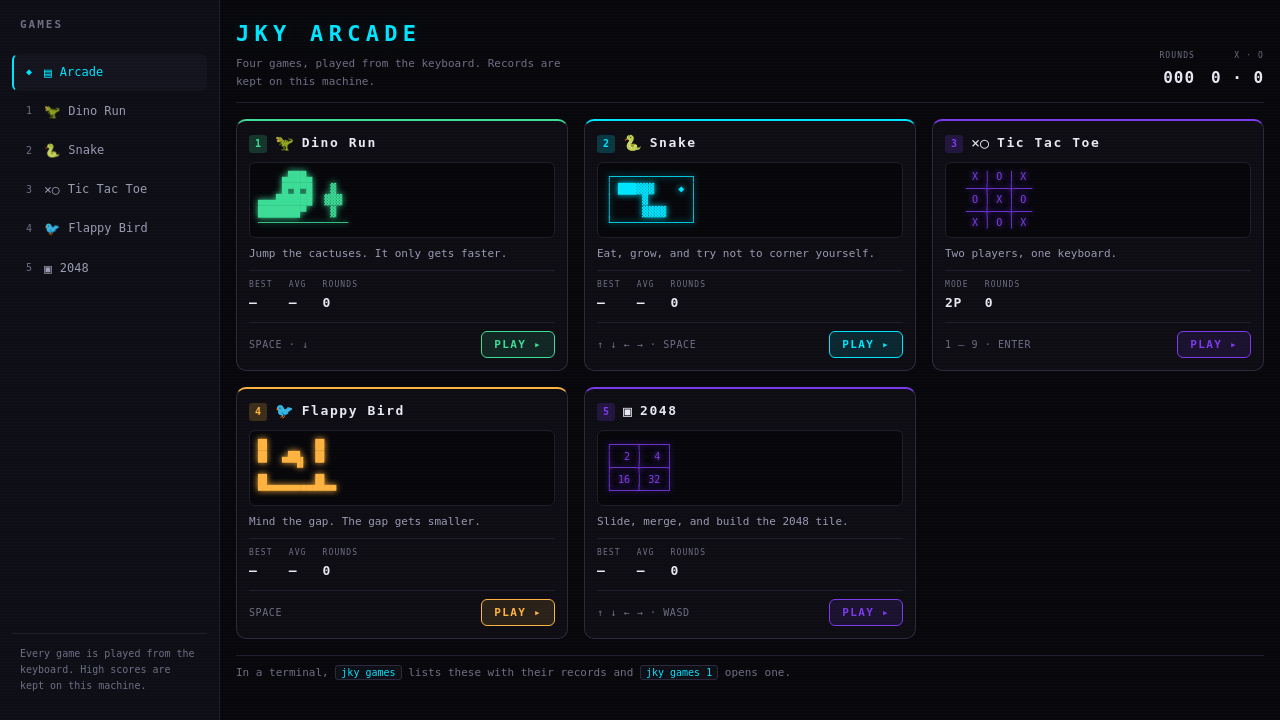
Scenario: the games section › switches to another game when its name is clicked
This screenshot has width=1280, height=720.
Step 1. Click the button "2 🐍 Snake" → x=110, y=151, box [12,132,207,169]
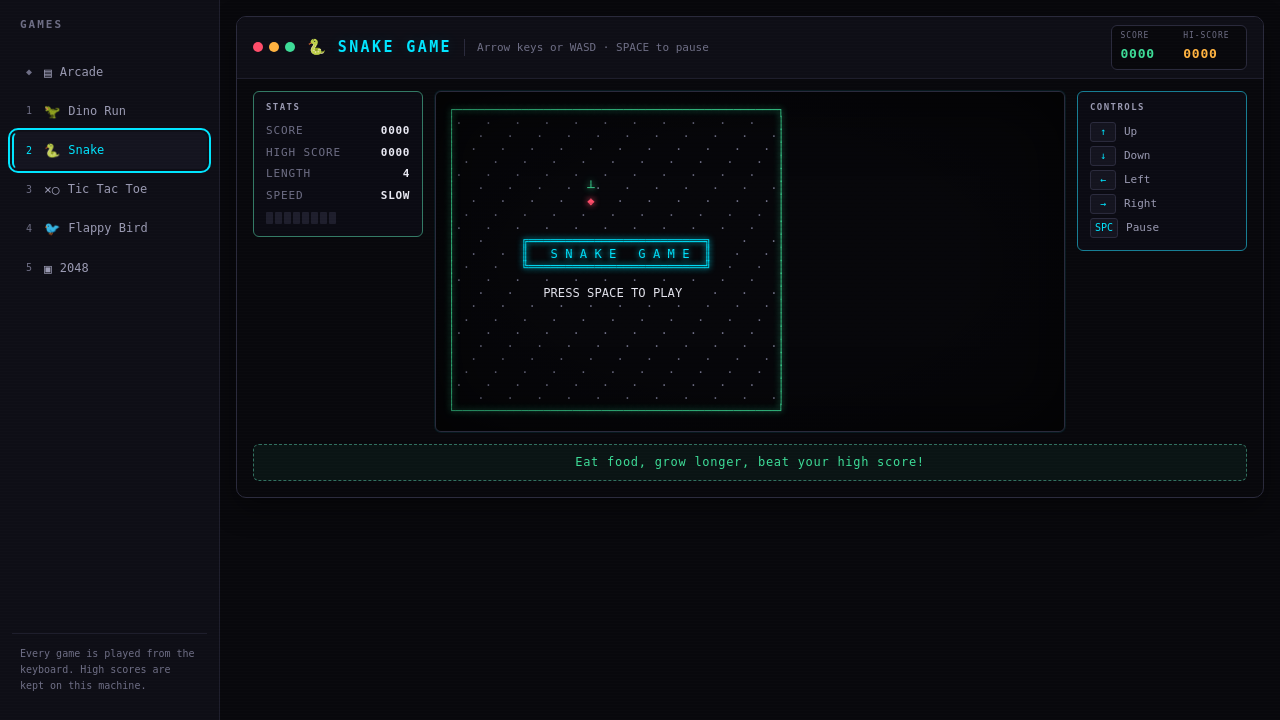
Result: the element "SNAKE GAME" is shown at [236,16,1264,498]
